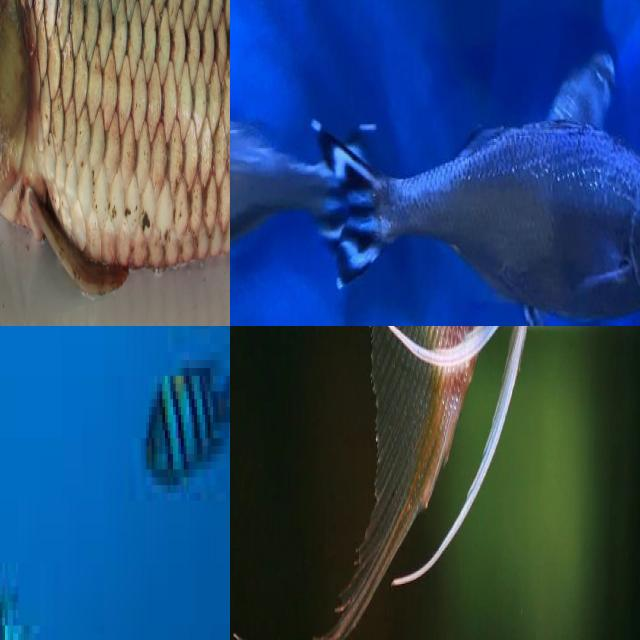fish: (230, 326, 640, 595), (0, 0, 230, 326), (0, 326, 230, 640)
